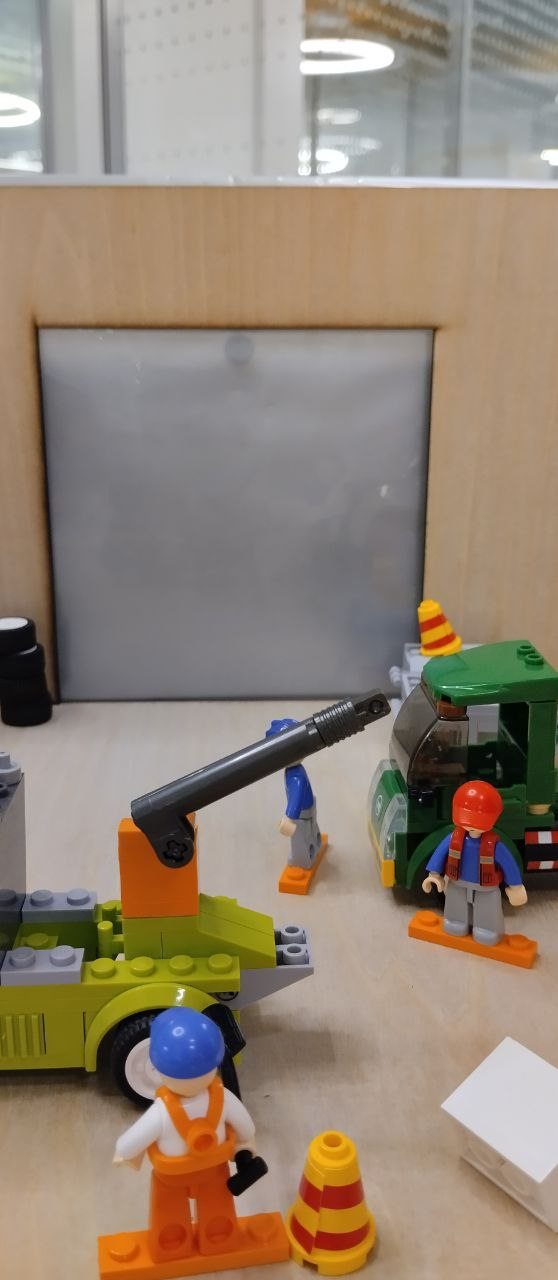Cone: (290, 1128, 384, 1278), (419, 593, 464, 661)
Crane: (0, 690, 385, 1100)
Object white: (442, 1034, 557, 1231)
Truck: (362, 639, 558, 900)
